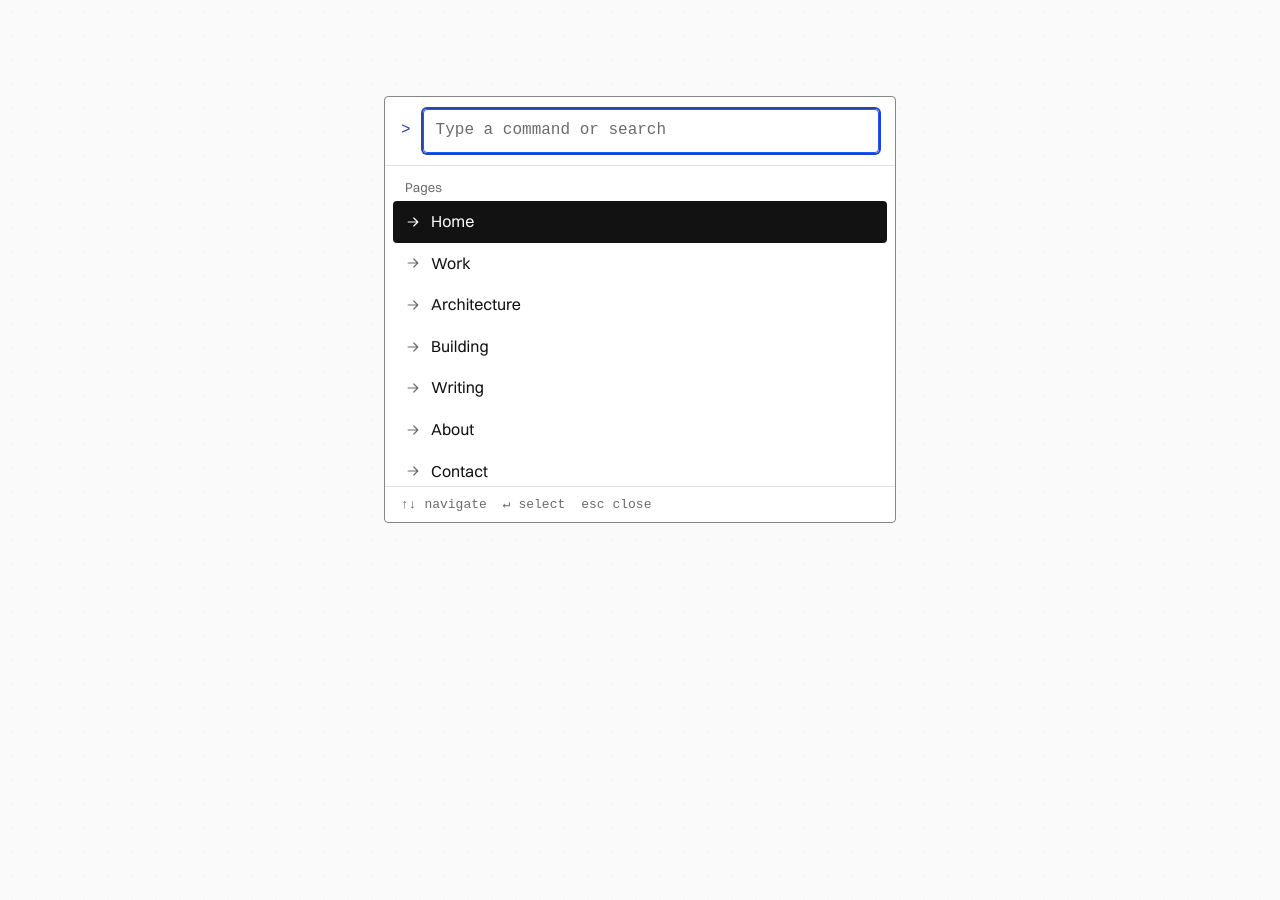
Test: CommandPalette.svelte › matches a command by its search keywords, not just its visible label
This screenshot has width=1280, height=900.
// "dark" appears nowhere in the label "Toggle theme" — only in its keywords.
Type "dark" into the field with placeholder "Type a command or search".
click(651, 131); type("dark")  # box [423,109,879,153]
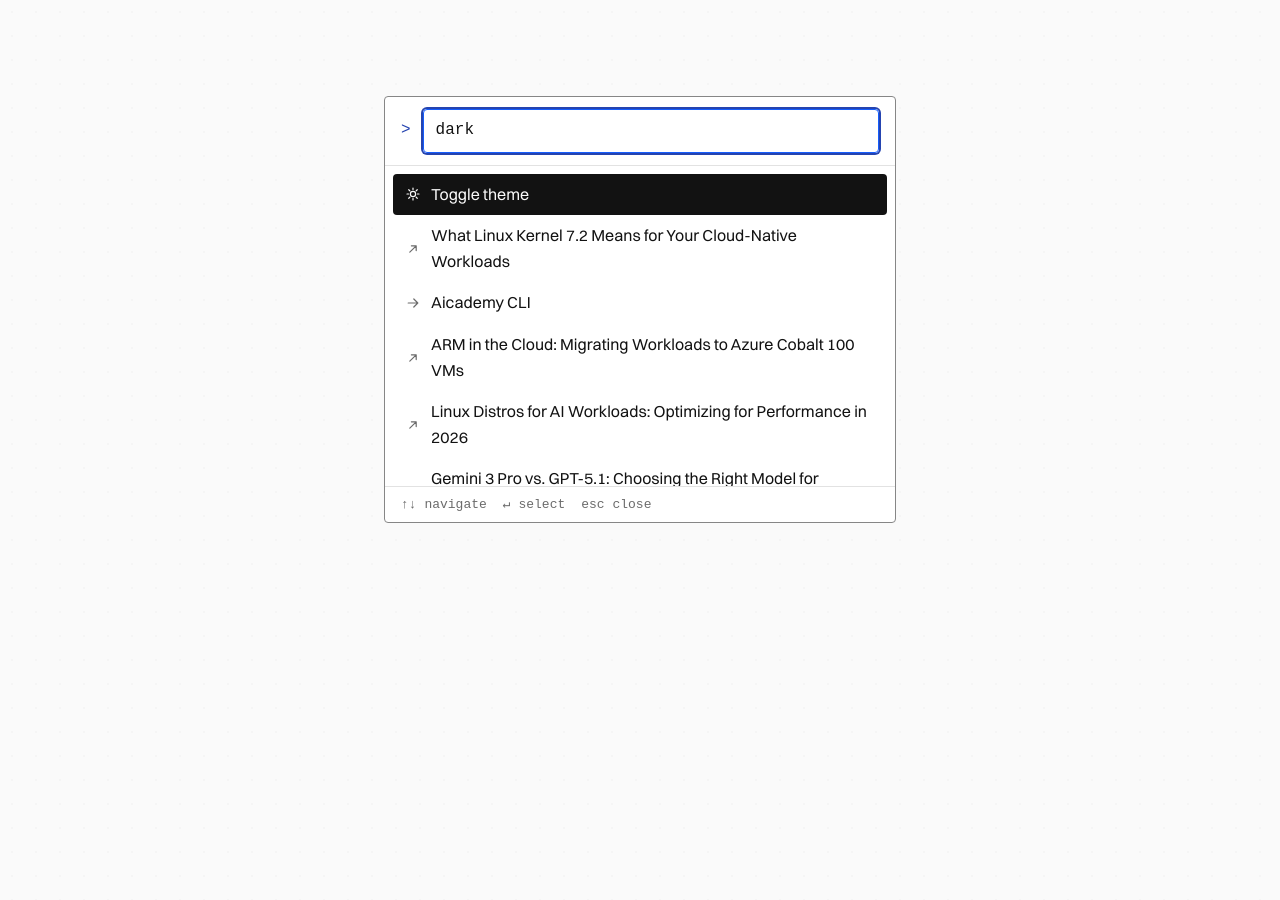
expect the button "Toggle theme" is shown: met, box [393,174,887,215]
